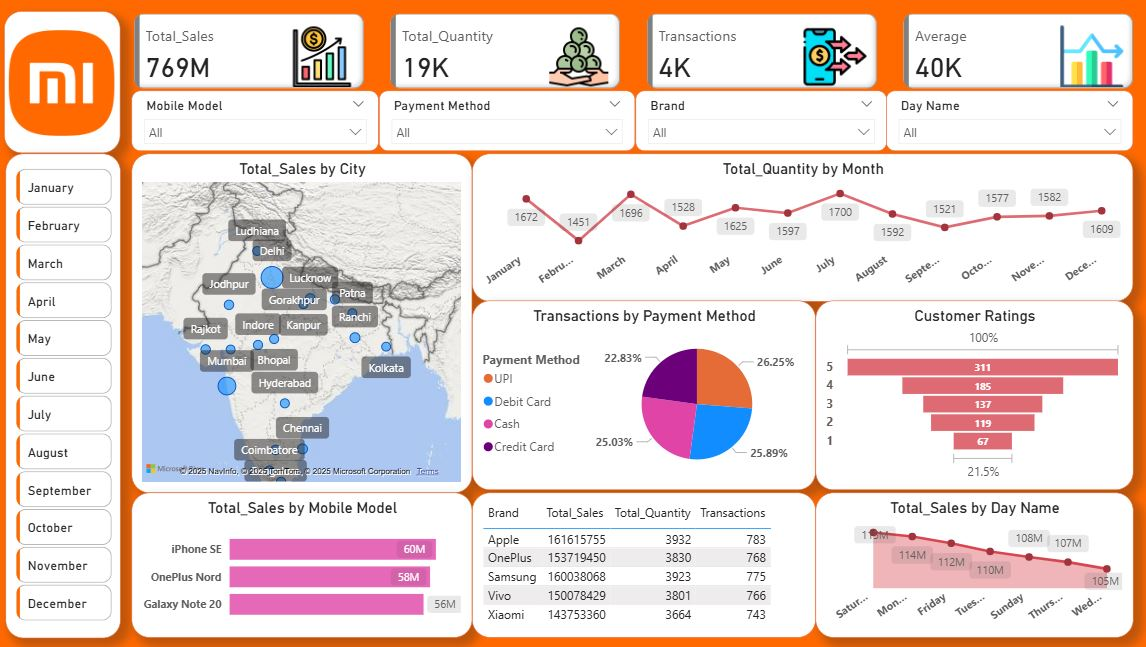

Layout of this report page (visuals, bound fields, positions):
{"tool":"powerbi","page":{"name":"Page 1","canvas":[1280,720],"ordinal":0},"visuals":[{"type":"shape","box":[6.4,12.8,129.4,158.2],"z":0},{"type":"image","box":[6.4,19.2,127.8,147],"z":1000},{"type":"shape","box":[8,171,127.8,538.4],"z":2000},{"type":"advancedSlicerVisual","fields":{"Values":["Sales_Data.Date.Variation.Date Hierarchy.Month"]},"box":[14.4,183.7,116.6,512.9],"z":3000},{"type":"cardVisual","fields":{"Data":["Sales_Data.Total_Sales","Sales_Data.Total_Quantity","Sales_Data.Transactions","Sales_Data.Average"]},"box":[135.8,0,1143.9,115],"z":4000},{"type":"map","fields":{"Category":["Sales_Data.City"],"Size":["Sales_Data.Total_Sales"]},"box":[148.6,171,378.6,377.1],"z":5000},{"type":"lineChart","fields":{"Category":["Sales_Data.Date.Variation.Date Hierarchy.Month","Sales_Data.Date.Variation.Date Hierarchy.Day"],"Y":["Sales_Data.Total_Quantity"]},"box":[527.2,171,734.9,164.6],"z":6000},{"type":"clusteredBarChart","fields":{"Category":["Sales_Data.Mobile Model"],"Y":["Sales_Data.Total_Sales"]},"box":[148.6,548,378.6,161.4],"z":7000},{"type":"pieChart","fields":{"Category":["Sales_Data.Payment Method"],"Y":["Sales_Data.Transactions"]},"box":[527.2,335.5,381.8,210.9],"z":8000},{"type":"funnel","title":"Customer Ratings","fields":{"Category":["Sales_Data.Customer Ratings"],"Y":["CountNonNull(Sales_Data.Customer Ratings)"]},"box":[909.1,335.5,353.1,210.9],"z":9000},{"type":"areaChart","fields":{"Category":["Sales_Data.Day Name"],"Y":["Sales_Data.Total_Sales"]},"box":[909.1,548,353.1,161.4],"z":10000},{"type":"tableEx","fields":{"Values":["Sales_Data.Brand","Sales_Data.Total_Sales","Sales_Data.Total_Quantity","Sales_Data.Transactions"]},"box":[527.2,548,381.8,161.4],"z":11000},{"type":"slicer","fields":{"Values":["Sales_Data.Mobile Model"]},"box":[148.6,102.3,274.8,67.1],"z":12000},{"type":"slicer","fields":{"Values":["Sales_Data.Day Name"]},"box":[987.4,102.3,274.8,67.1],"z":12001},{"type":"slicer","fields":{"Values":["Sales_Data.Brand"]},"box":[707.8,102.3,279.6,67.1],"z":12002},{"type":"slicer","fields":{"Values":["Sales_Data.Payment Method"]},"box":[423.4,102.3,284.4,67.1],"z":12003}]}

Visuals, with their boxes in screenshot pixels (x1, y1, x2, y2), scaled from the page's 1280x720 canvas onto the 1146x647 screenshot:
shape: locate(6, 12, 122, 154)
image: locate(6, 17, 120, 149)
shape: locate(7, 154, 122, 637)
advancedSlicerVisual - Sales_Data.Date.Variation.Date Hierarchy.Month: locate(13, 165, 117, 626)
cardVisual - Sales_Data.Total_Sales x Sales_Data.Total_Quantity: locate(122, 0, 1145, 103)
map - Sales_Data.City x Sales_Data.Total_Sales: locate(133, 154, 472, 493)
lineChart - Sales_Data.Date.Variation.Date Hierarchy.Month x Sales_Data.Date.Variation.Date Hierarchy.Day: locate(472, 154, 1130, 302)
clusteredBarChart - Sales_Data.Mobile Model x Sales_Data.Total_Sales: locate(133, 492, 472, 637)
pieChart - Sales_Data.Payment Method x Sales_Data.Transactions: locate(472, 301, 814, 491)
"Customer Ratings" funnel: locate(814, 301, 1130, 491)
areaChart - Sales_Data.Day Name x Sales_Data.Total_Sales: locate(814, 492, 1130, 637)
tableEx - Sales_Data.Brand x Sales_Data.Total_Sales: locate(472, 492, 814, 637)
slicer - Sales_Data.Mobile Model: locate(133, 92, 379, 152)
slicer - Sales_Data.Day Name: locate(884, 92, 1130, 152)
slicer - Sales_Data.Brand: locate(634, 92, 884, 152)
slicer - Sales_Data.Payment Method: locate(379, 92, 634, 152)
